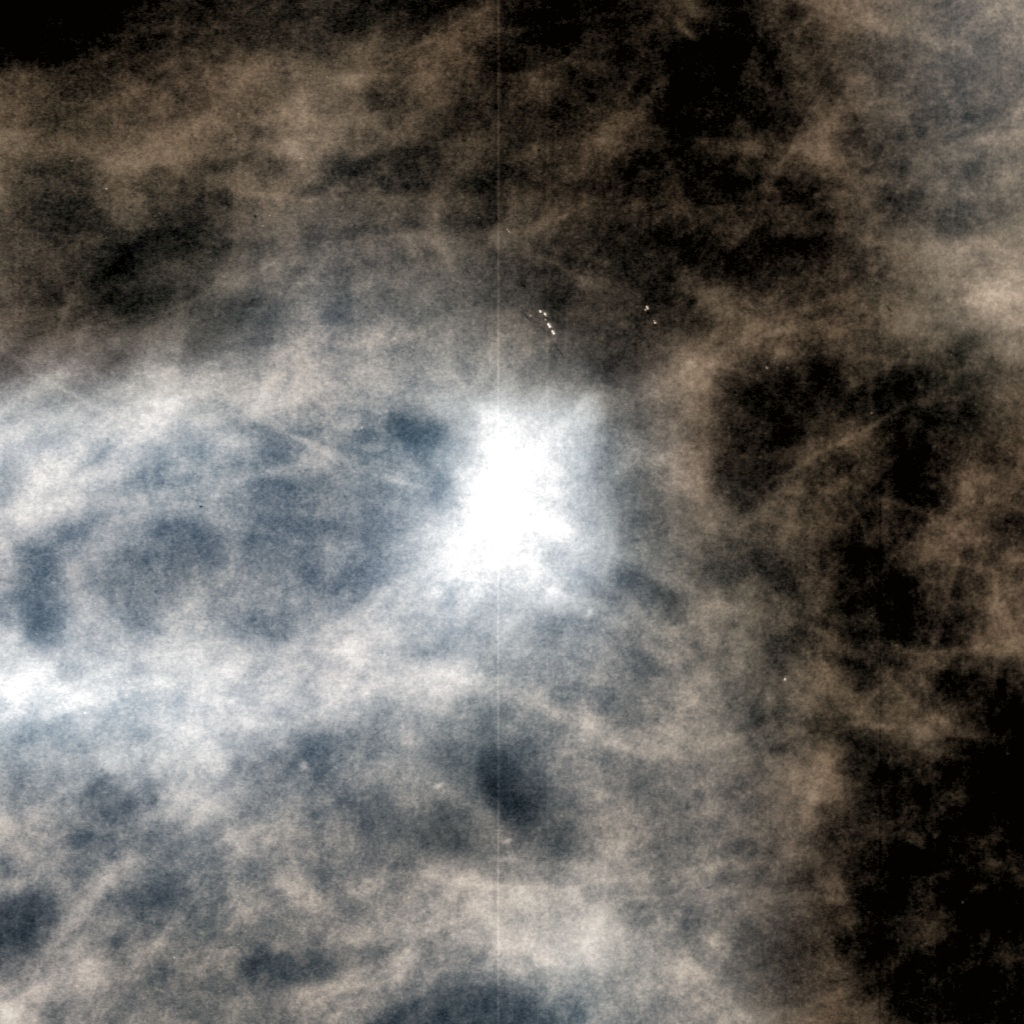tumor: (391, 392, 633, 632)
